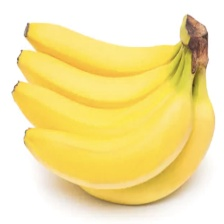banana: (6, 16, 186, 198)
